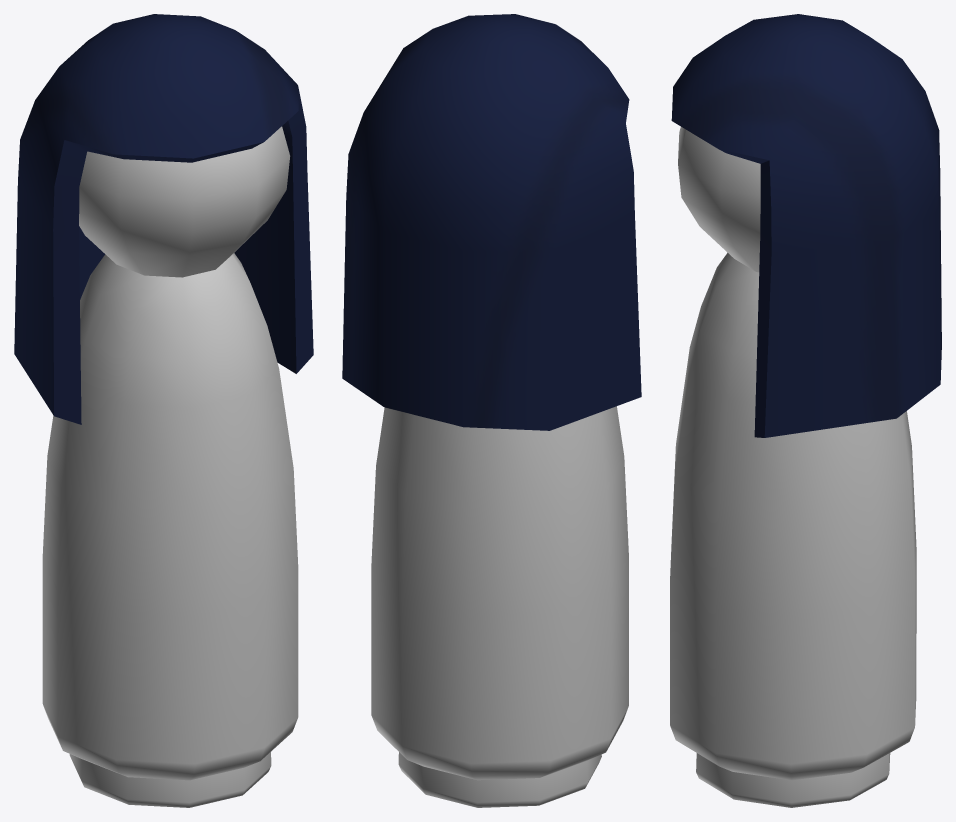
File: Peg_Dress_Long_BlackHair.fbx
The picture shows the model from 3 angles, left to right: view 1: azimuth 30°, elevation 25°; view 2: azimuth 150°, elevation 25°; view 3: azimuth 270°, elevation 25°; orthographic projection.
Visible parts, largest first — view 1: Peg_Dress_Long_BlackHair; view 2: Peg_Dress_Long_BlackHair; view 3: Peg_Dress_Long_BlackHair.
Boxes of the visible parts, x1,y1,x2,y2 form: Peg_Dress_Long_BlackHair: (14,14,313,807); Peg_Dress_Long_BlackHair: (342,14,641,807); Peg_Dress_Long_BlackHair: (670,14,941,807).
Bounding box in the file's own units: 2.13 × 5.86 × 1.94.
